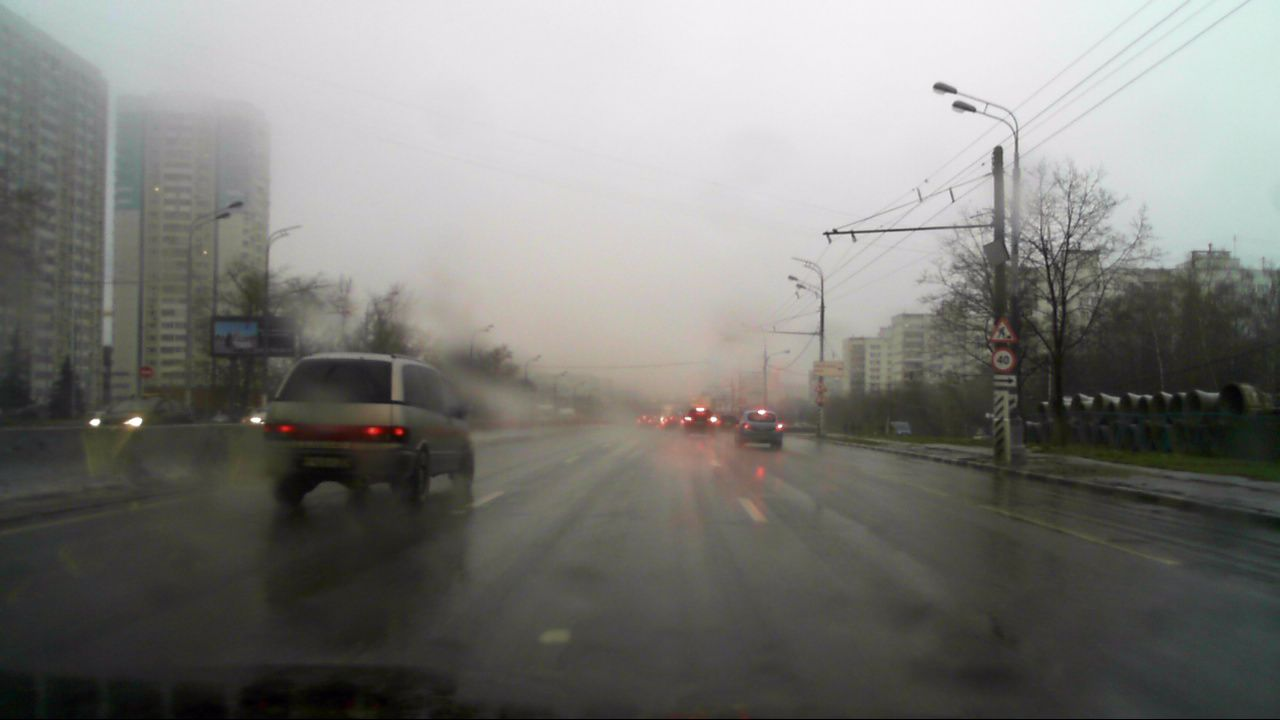speed_warning_40: (991, 348, 1014, 370)
